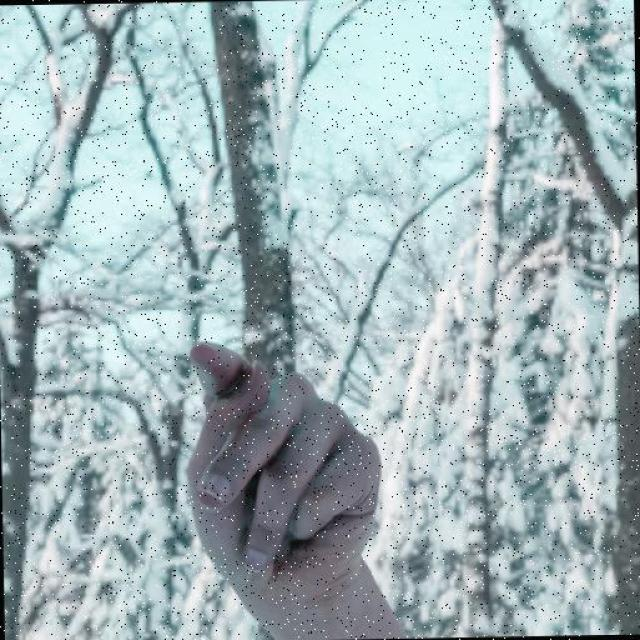P: (177, 336, 391, 610)
